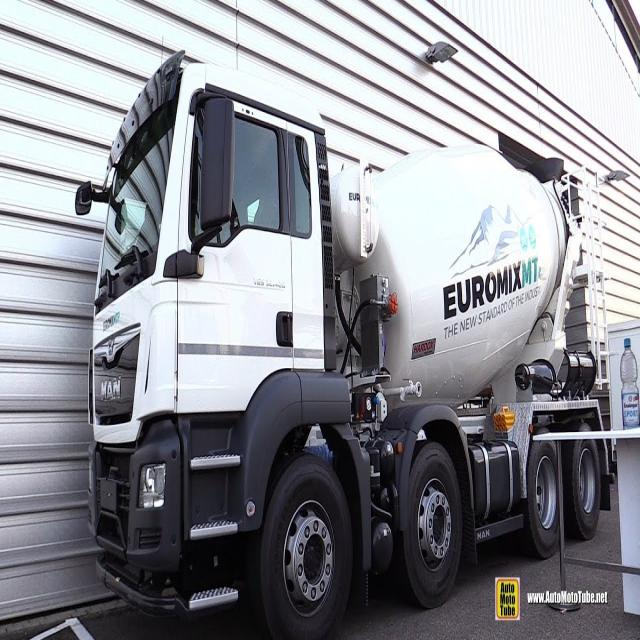Mixer Truck: (88, 49, 614, 640)
